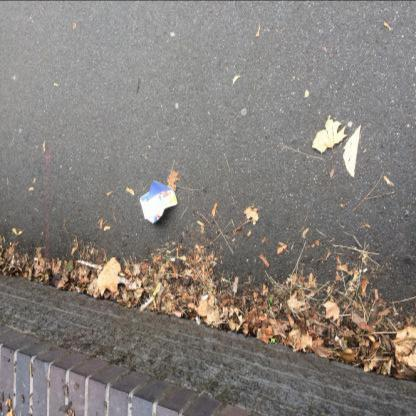Carton: (140, 180, 178, 223)
